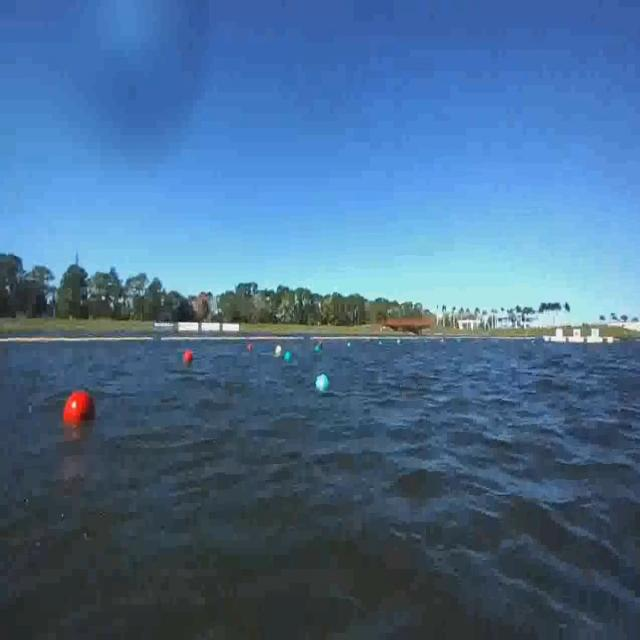green-buoy: (316, 372, 330, 398), (283, 349, 294, 362)
red-buoy: (62, 390, 100, 430), (184, 351, 192, 362)
